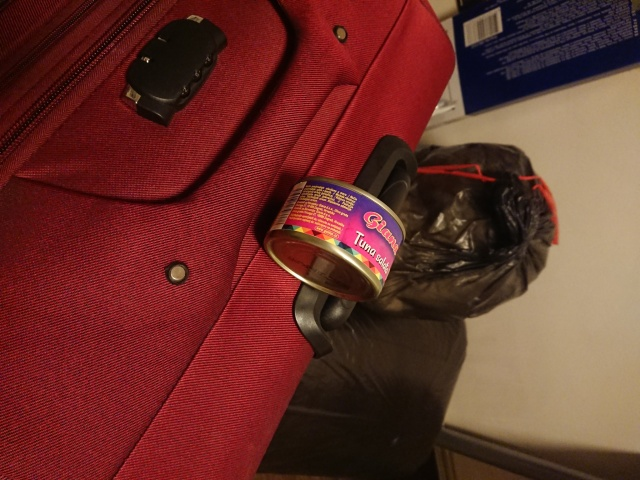Giana Tuna Salad Mexico 185g: (261, 174, 408, 305)
